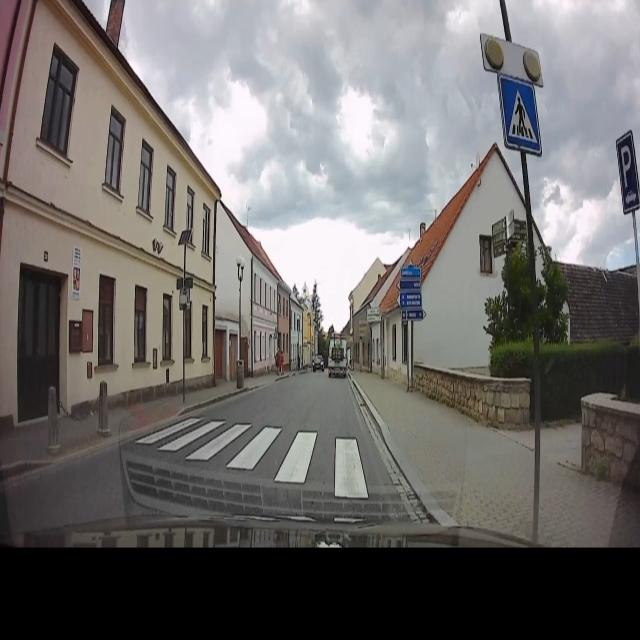Pedestrian crosswalk: (122, 406, 376, 503), (506, 85, 540, 150)
Person: (279, 348, 286, 378), (274, 346, 280, 376)
